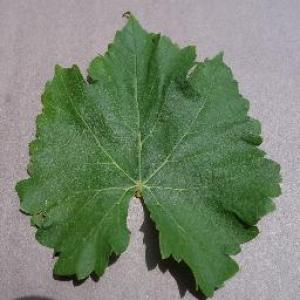Folha: (14, 9, 282, 299)
